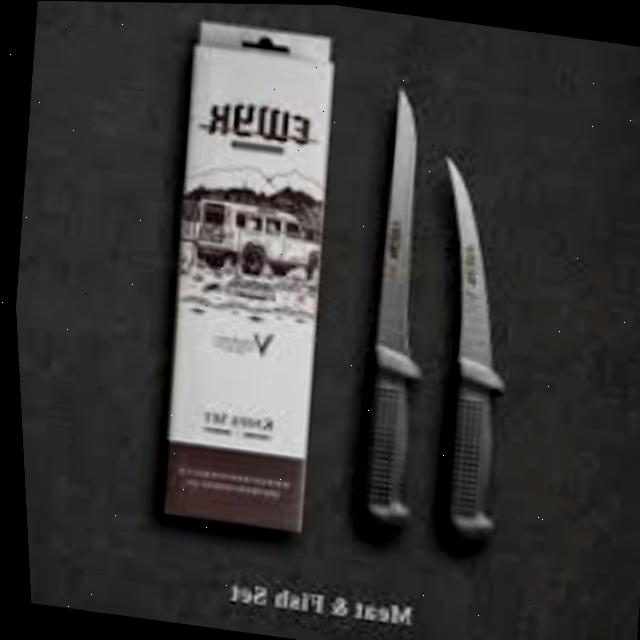knife: (397, 150, 537, 548), (338, 83, 460, 532)
